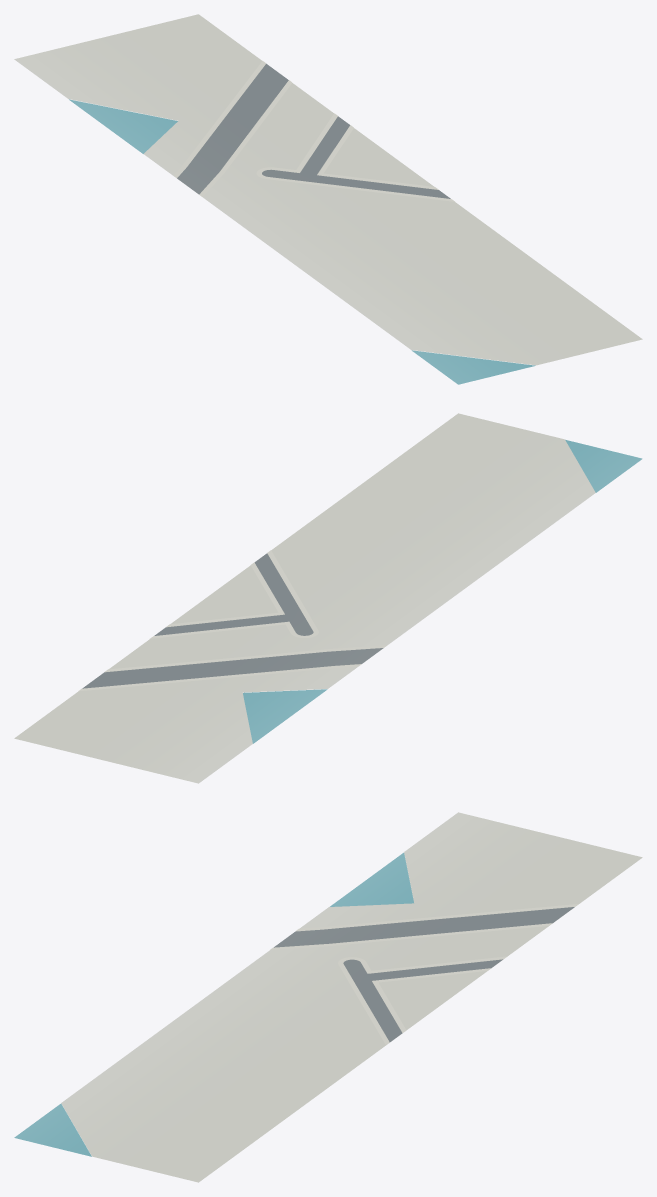
3 renders of one model, top to bottom at view 1: azimuth 30°, elevation 25°; view 2: azimuth 150°, elevation 25°; view 3: azimuth 330°, elevation 25°, orthographic.
Visible parts, largest first — view 1: city; view 2: city; view 3: city.
Part boxes in pixels (<box>): city: <box>14,14,642,384</box>; city: <box>14,413,642,783</box>; city: <box>14,812,642,1182</box>.
Bounding box in the file's own units: 120 × 0.4 × 500.
